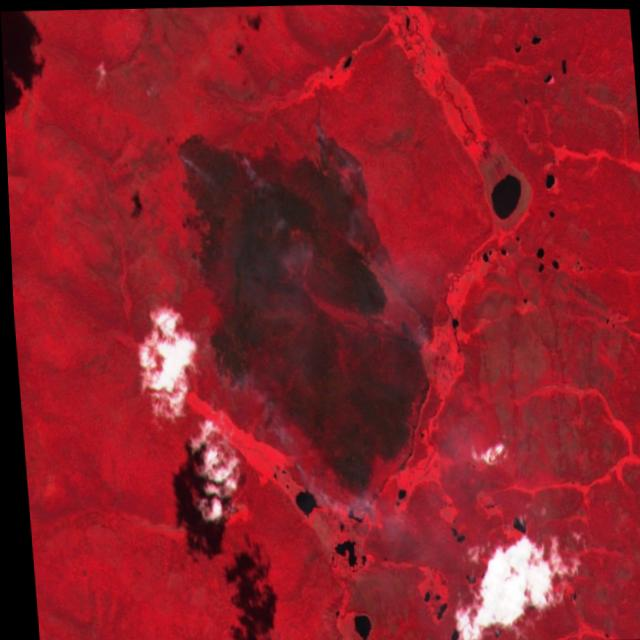fire: (210, 361, 381, 532), (305, 104, 355, 179), (234, 143, 267, 174), (169, 135, 193, 173)
